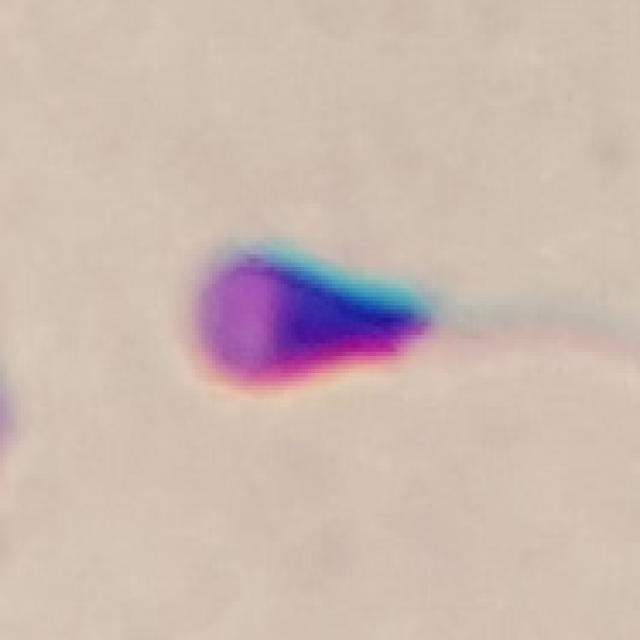abnormal sperm: (187, 250, 546, 389)
